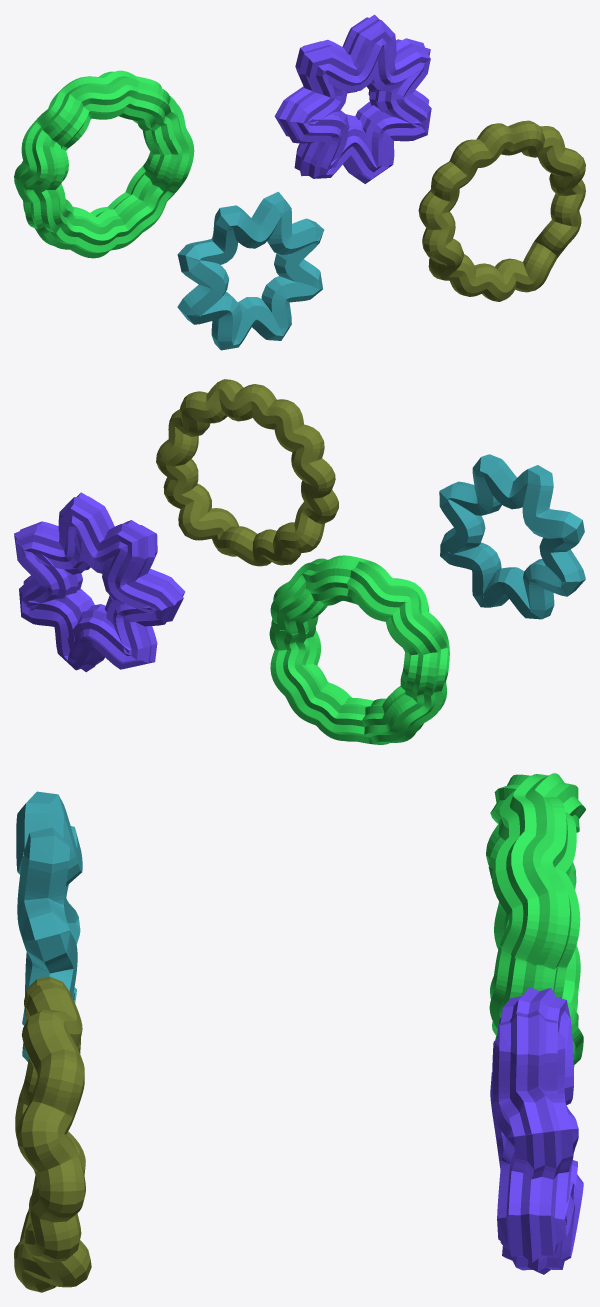
The model's file is Phong Bump Mapped_Closed Spline_2023-07-23-20-47-44.gltf.
3 views of the same model, one above another, from view 1: azimuth 30°, elevation 25°; view 2: azimuth 150°, elevation 25°; view 3: azimuth 270°, elevation 25° (orthographic). The views are drawn at different scales.
Bounding box in the file's own units: 334 × 132 × 238.
